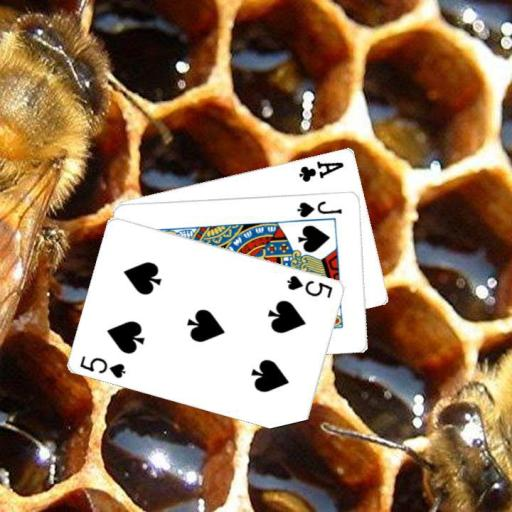5S: (284, 272, 335, 299), (77, 353, 128, 380)
AC: (296, 157, 346, 184)
JS: (294, 197, 344, 218)
